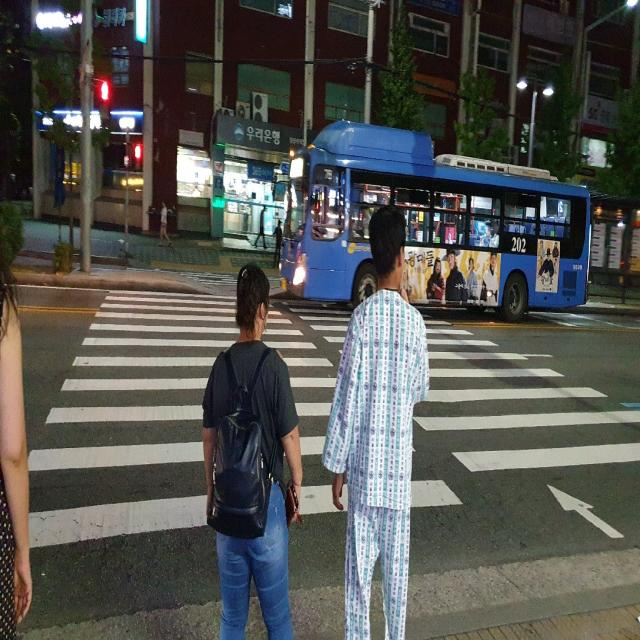빨간불: (99, 78, 111, 122)
횡단보도: (28, 268, 639, 549)
